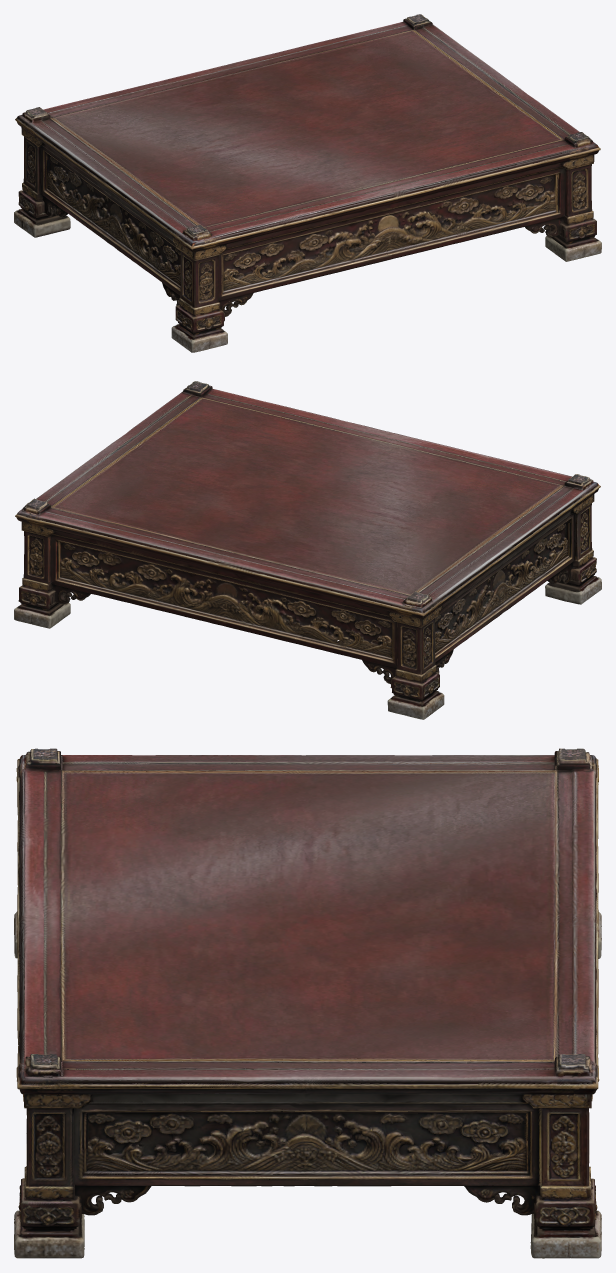
The model's file is 雕花底座.glb.
The picture shows the model from 3 angles, top to bottom: view 1: azimuth 30°, elevation 25°; view 2: azimuth 150°, elevation 25°; view 3: azimuth 270°, elevation 25°; orthographic projection. The views are drawn at different scales.
Visible parts, largest first — view 1: tripo_node_373d6e20-8c28-495e-acf1-57c81c4ce2db; view 2: tripo_node_373d6e20-8c28-495e-acf1-57c81c4ce2db; view 3: tripo_node_373d6e20-8c28-495e-acf1-57c81c4ce2db.
Boxes of the visible parts, x1,y1,x2,y2 form: tripo_node_373d6e20-8c28-495e-acf1-57c81c4ce2db: [14, 14, 601, 352]; tripo_node_373d6e20-8c28-495e-acf1-57c81c4ce2db: [14, 381, 601, 719]; tripo_node_373d6e20-8c28-495e-acf1-57c81c4ce2db: [14, 748, 601, 1258].
Size of the model in its own units: 0.9803 by 0.2608 by 0.7397.
Materials: 1 (1 with a texture image).
